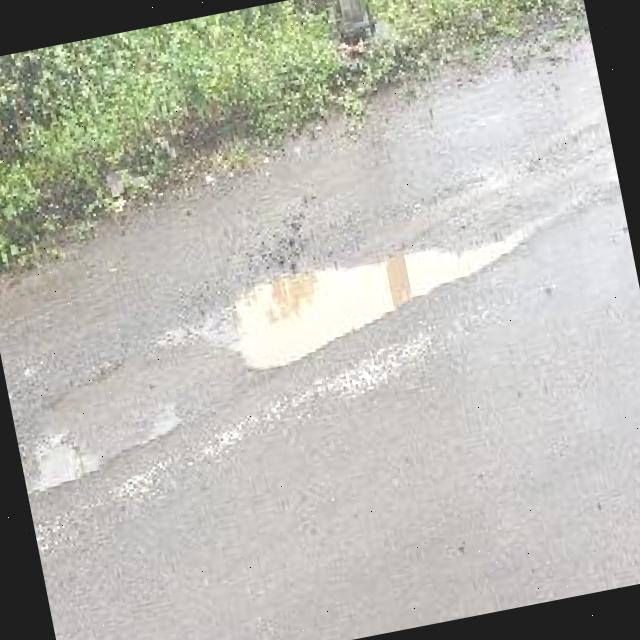stagnation: (198, 218, 541, 378)
